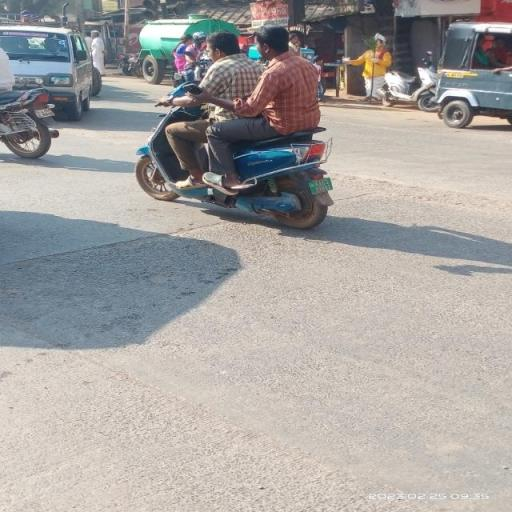bike: (136, 28, 352, 228)
numberplate: (306, 176, 336, 198)
withouthelmet: (256, 25, 287, 59), (208, 34, 239, 57)
